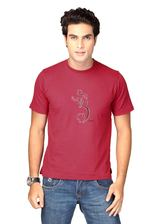clothoes: (28, 58, 136, 182)
watch: (26, 176, 44, 185)
